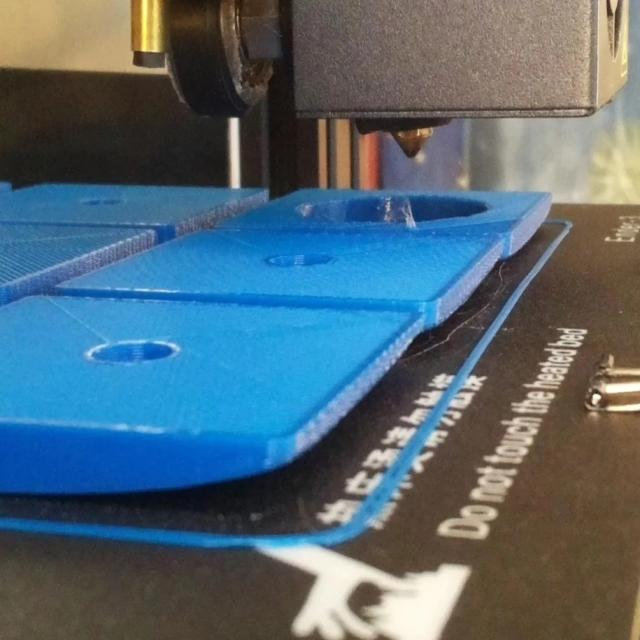Warping: (81, 344, 446, 561)
